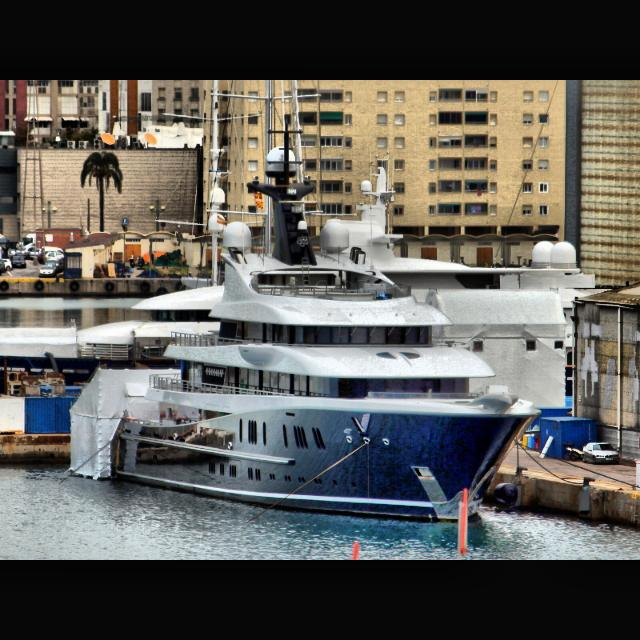yacht: (110, 115, 542, 523)
